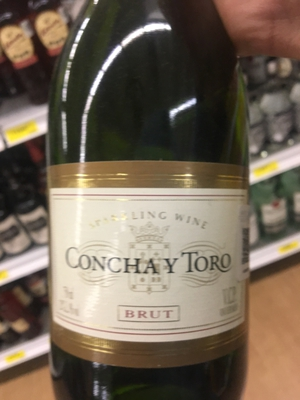brut: (43, 14, 256, 400)
